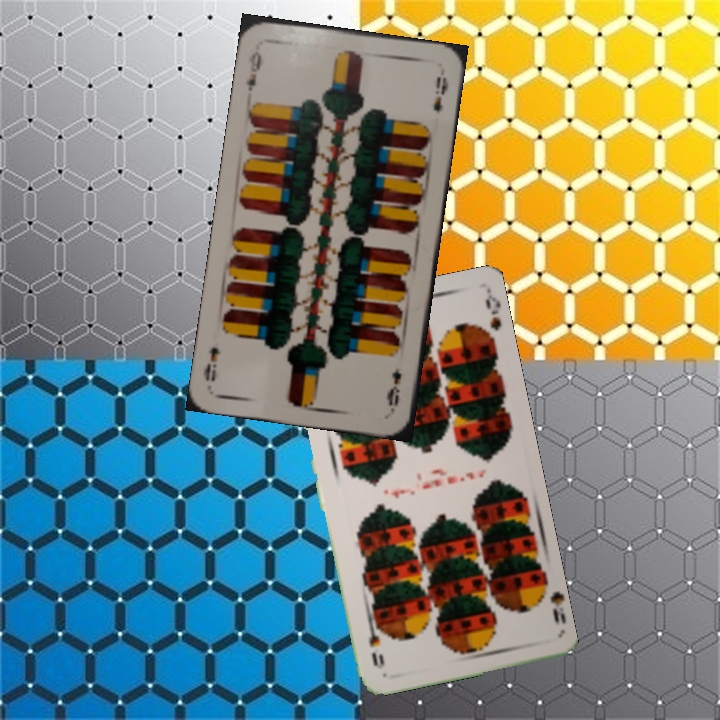E9: (242, 47, 264, 100), (382, 366, 405, 413)
S9: (531, 574, 566, 627)
